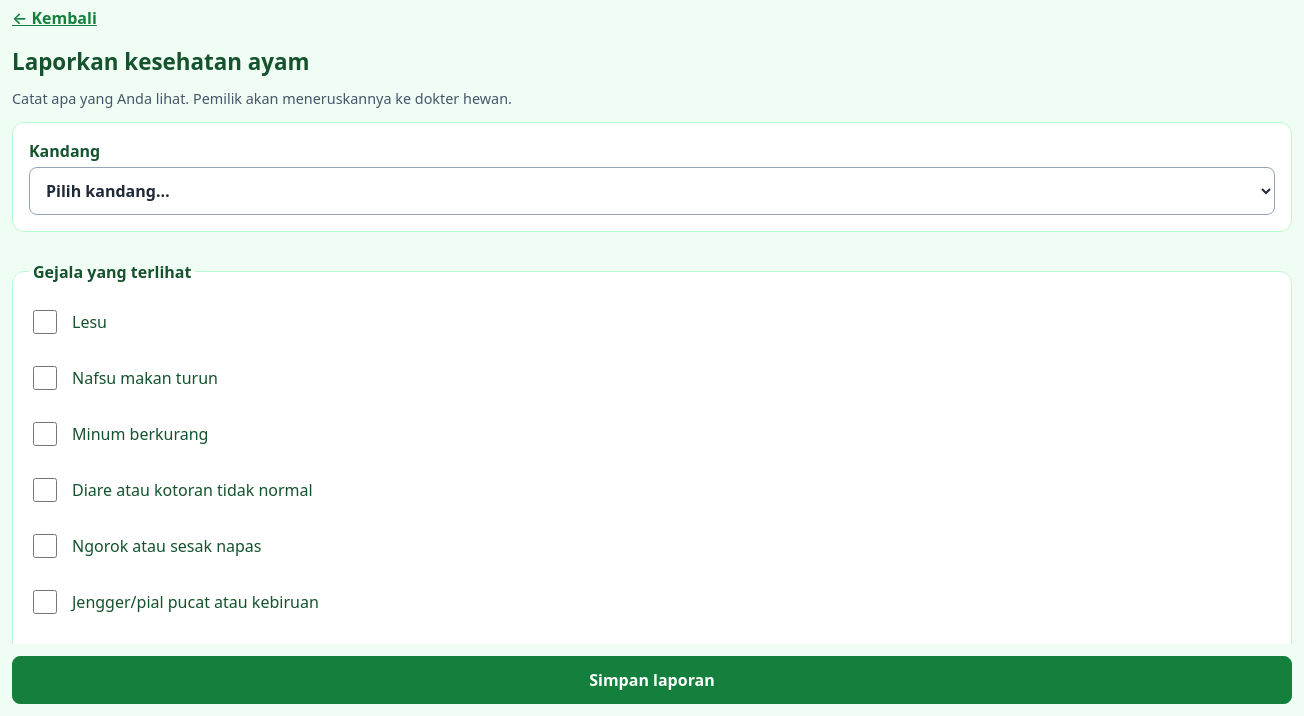
HealthForm › asks for a house, a symptom and a photo
Click the button "Simpan laporan" at (652, 680), box [12, 656, 1292, 704]
(page scrolled)
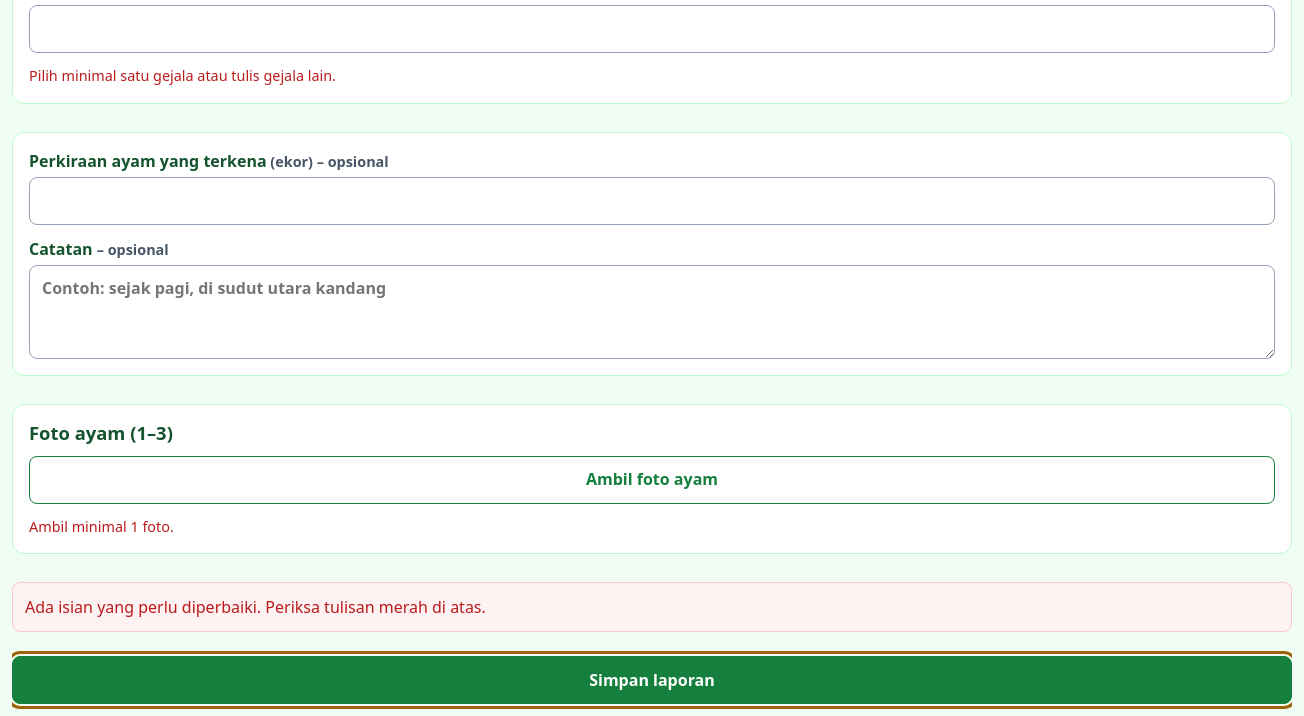
Now the text "Pilih minimal satu gejala atau tulis gejala lain." is shown, box [29, 66, 336, 85]
Now the text "Ambil minimal 1 foto." is shown, box [29, 517, 174, 536]
